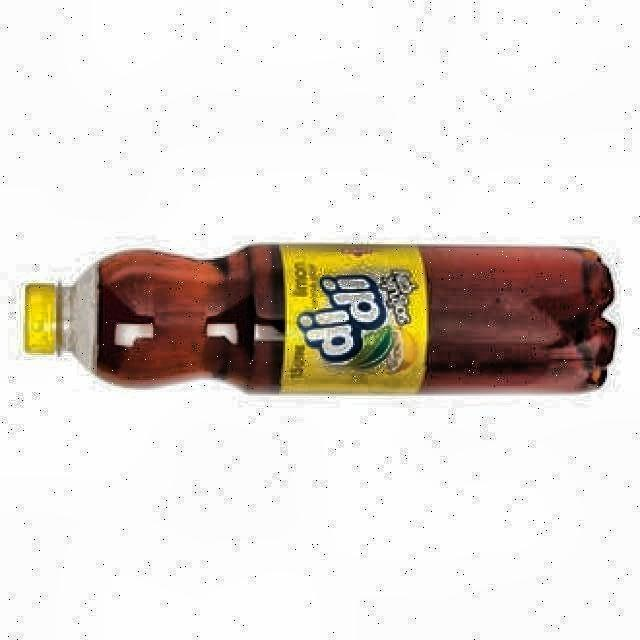plastic: (26, 244, 616, 392)
